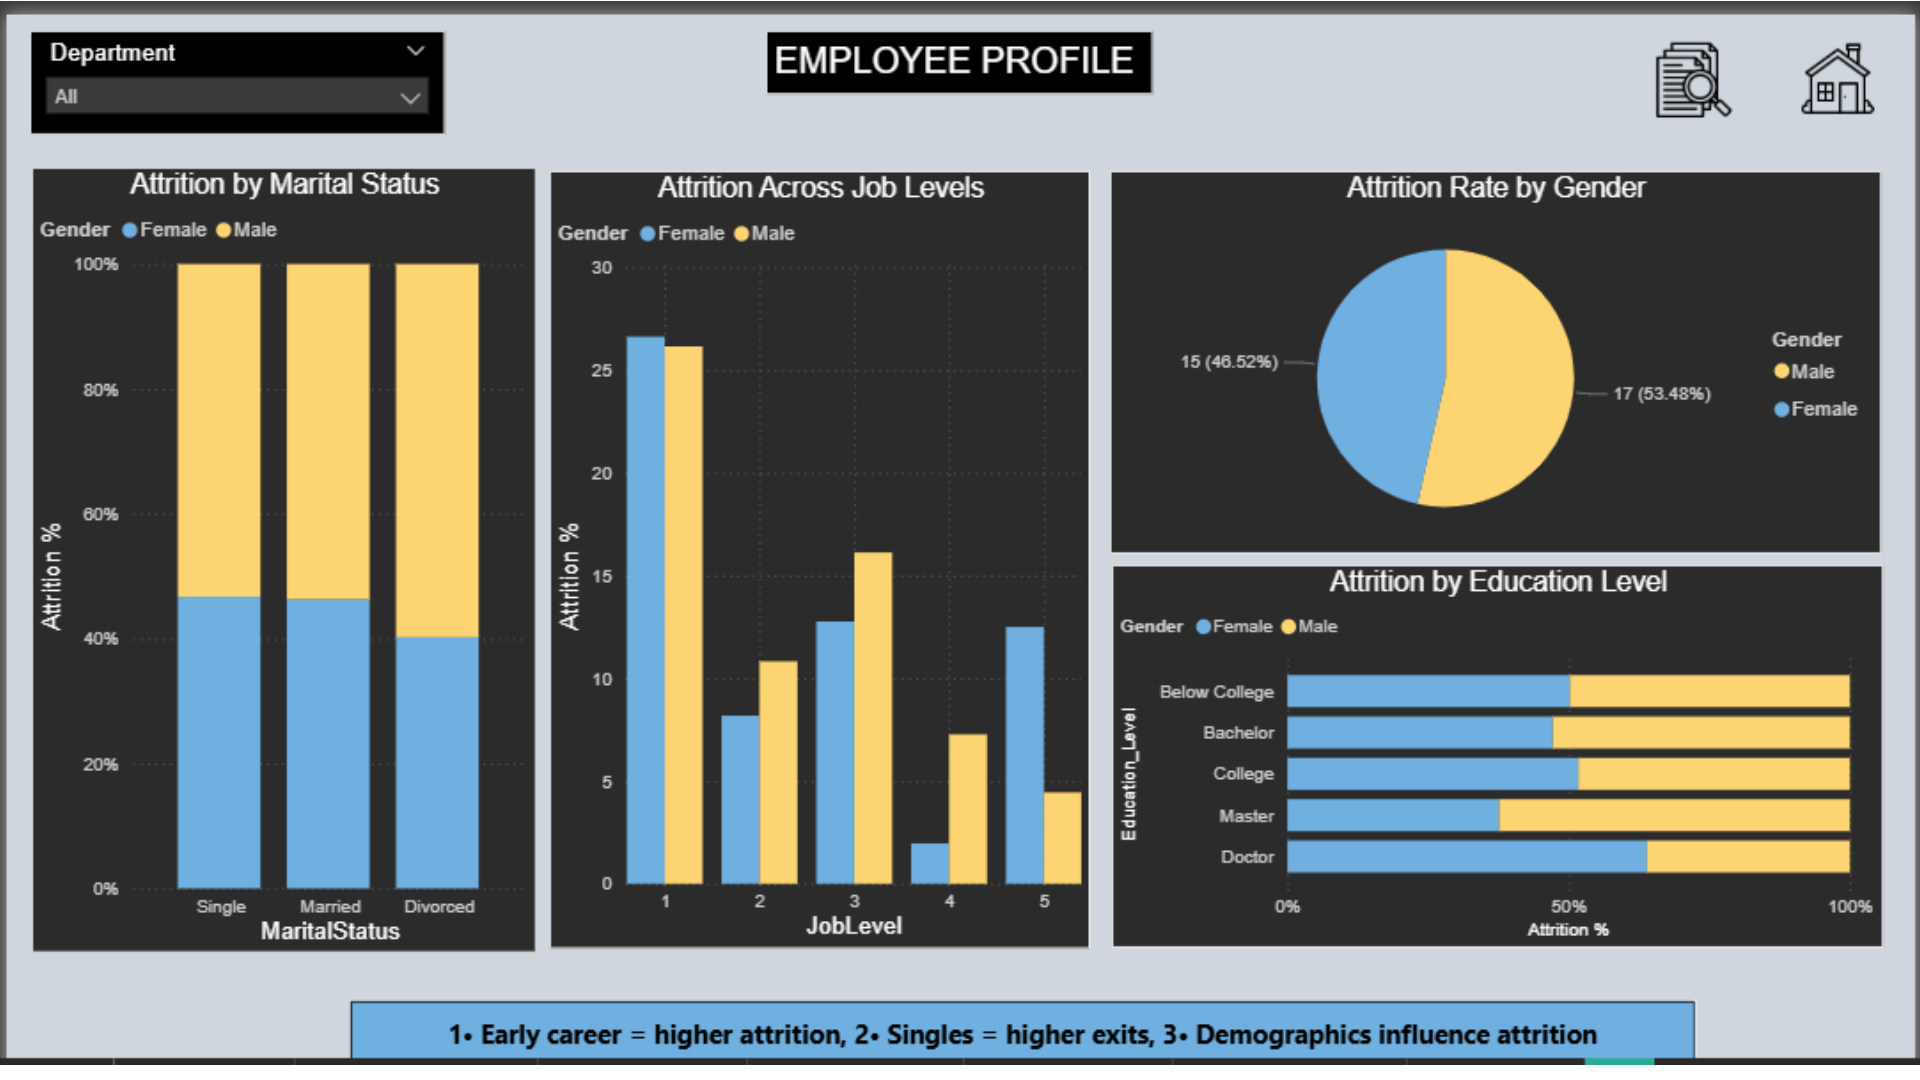

Layout of this report page (visuals, bound fields, positions):
{"tool":"powerbi","page":{"name":"Employee Profile","canvas":[1280,720],"ordinal":5},"visuals":[{"type":"textbox","box":[509.2,11,260.1,42.7],"z":0},{"type":"pieChart","title":"Attrition Rate by Gender","fields":{"Category":["Employees_Database.Gender"],"Y":["Overview Measures.Attrition %"]},"box":[740.5,104.6,517.5,257.4],"z":1000},{"type":"hundredPercentStackedColumnChart","title":"Attrition by Marital Status","fields":{"Category":["Employees_Database.MaritalStatus"],"Y":["Overview Measures.Attrition %"],"Series":["Employees_Database.Gender"]},"box":[16.5,101.8,338.6,527.1],"z":2000},{"type":"hundredPercentStackedBarChart","title":"Attrition by Education Level","fields":{"Category":["Employees_Database.Education_Level"],"Y":["Overview Measures.Attrition %"],"Series":["Employees_Database.Gender"]},"box":[741.8,368.9,517.5,257.4],"z":3000},{"type":"clusteredColumnChart","title":"Attrition Across Job Levels","fields":{"Category":["Employees_Database.JobLevel"],"Y":["Overview Measures.Attrition %"],"Series":["Employees_Database.Gender"]},"box":[364.7,104.6,363.4,521.6],"z":4000},{"type":"shape","box":[229.8,660.6,904.3,44],"z":5000},{"type":"slicer","fields":{"Values":["Employees_Database.Department"]},"box":[15.1,11,279.4,70.2],"z":6000},{"type":"image","box":[1200.2,17.9,57.8,52.3],"z":7000},{"type":"image","box":[1103.8,17.9,57.8,52.3],"z":8000}]}

Visuals, with their boxes in screenshot pixels (x1, y1, x2, y2), scaled from the page's 1280x720 canvas onto the 1920x1080 screenshot:
textbox: region(764, 16, 1154, 81)
"Attrition Rate by Gender" pieChart: region(1111, 157, 1887, 543)
"Attrition by Marital Status" hundredPercentStackedColumnChart: region(25, 153, 533, 943)
"Attrition by Education Level" hundredPercentStackedBarChart: region(1113, 553, 1889, 939)
"Attrition Across Job Levels" clusteredColumnChart: region(547, 157, 1092, 939)
shape: region(345, 991, 1701, 1057)
slicer - Employees_Database.Department: region(23, 16, 442, 122)
image: region(1800, 27, 1887, 105)
image: region(1656, 27, 1742, 105)
